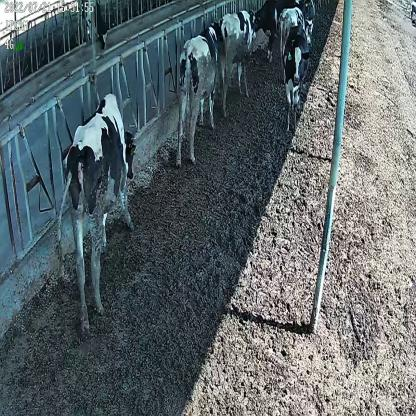cow: (54, 91, 134, 332), (176, 23, 223, 165), (218, 10, 256, 116), (281, 28, 309, 132)
